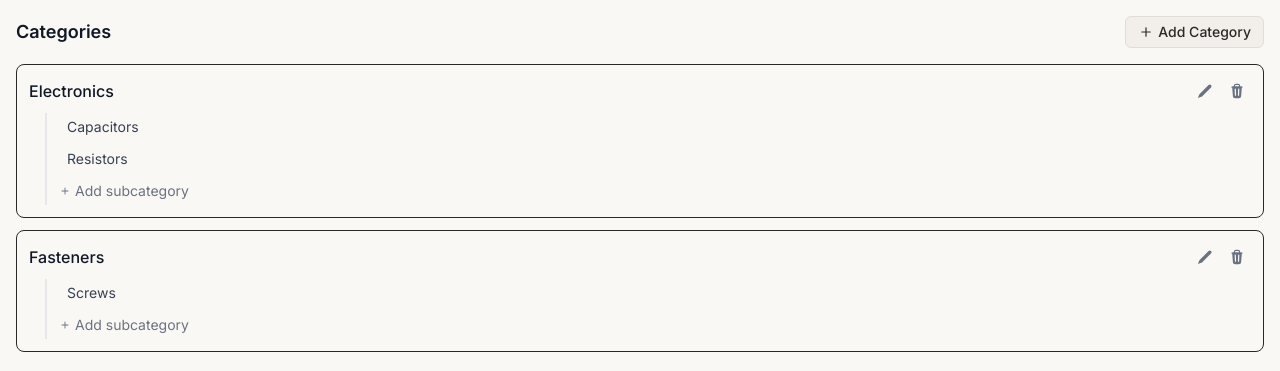
it: CategoryManagement › edit category › should cancel edit on Escape
This screenshot has width=1280, height=371.
Click the button named "Edit Electronics" at (1205, 91), box x1=1191 y1=77 x2=1219 y2=105
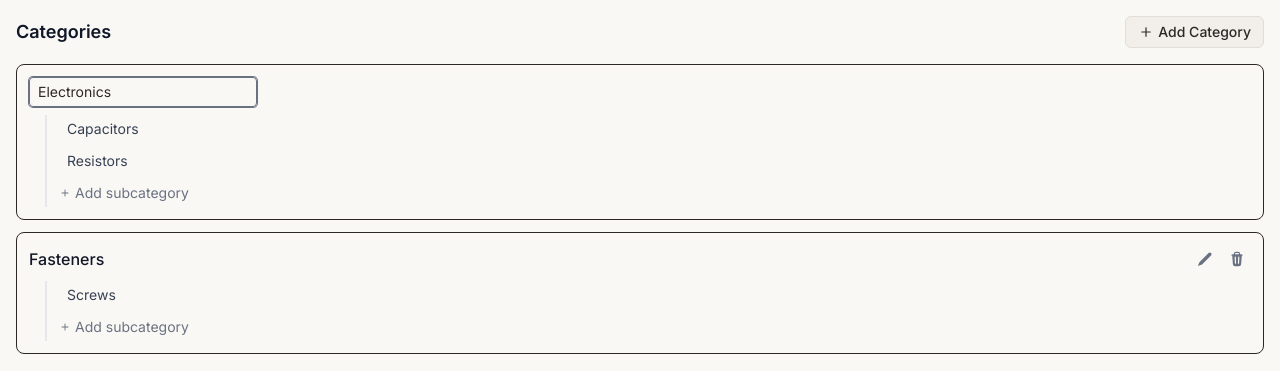
Press Escape
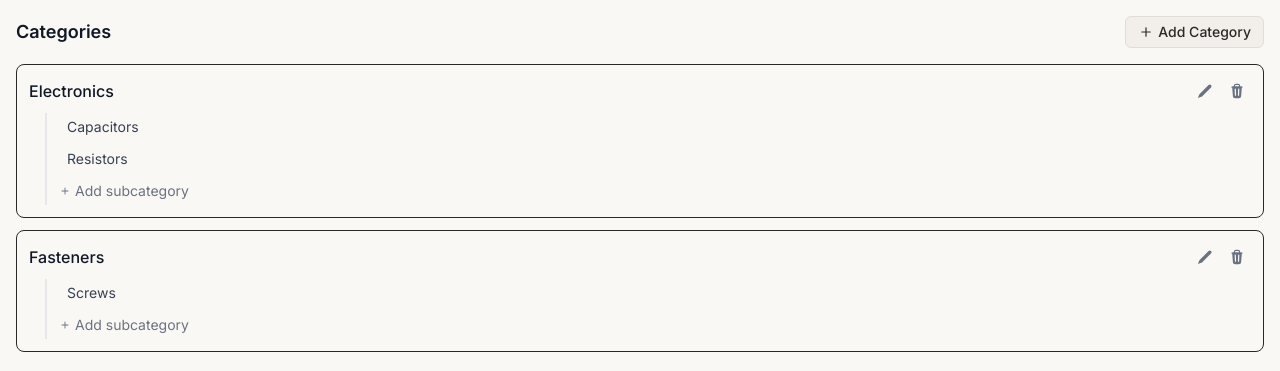
Result: the heading "Electronics" is shown at x1=29 y1=79 x2=114 y2=103
